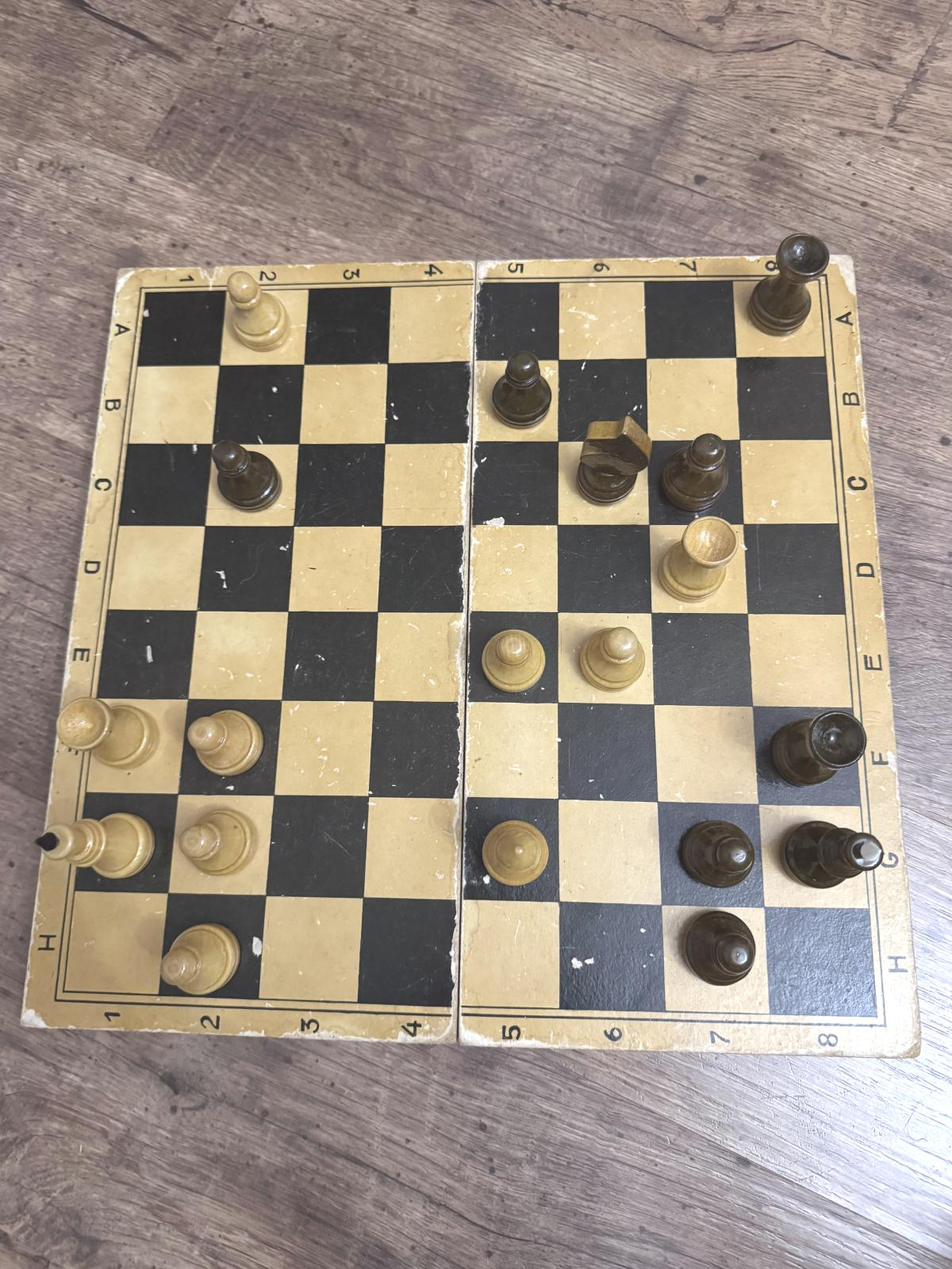Chess-Board: (63, 280, 877, 1016)
